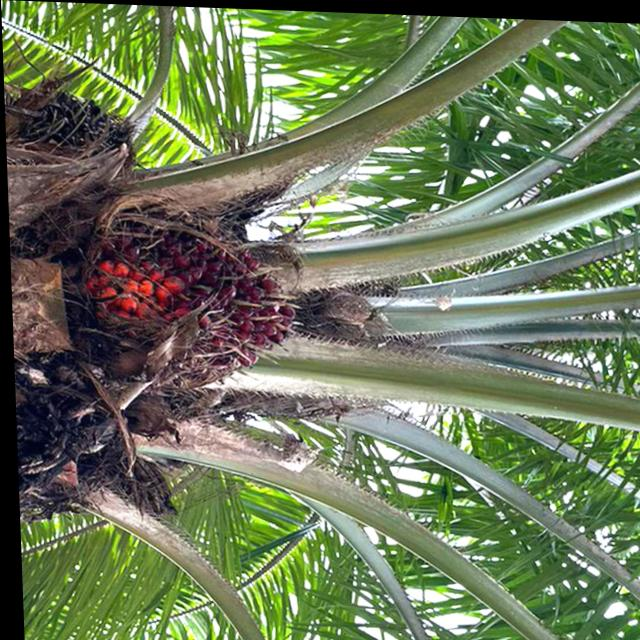ripe: (51, 179, 318, 423)
